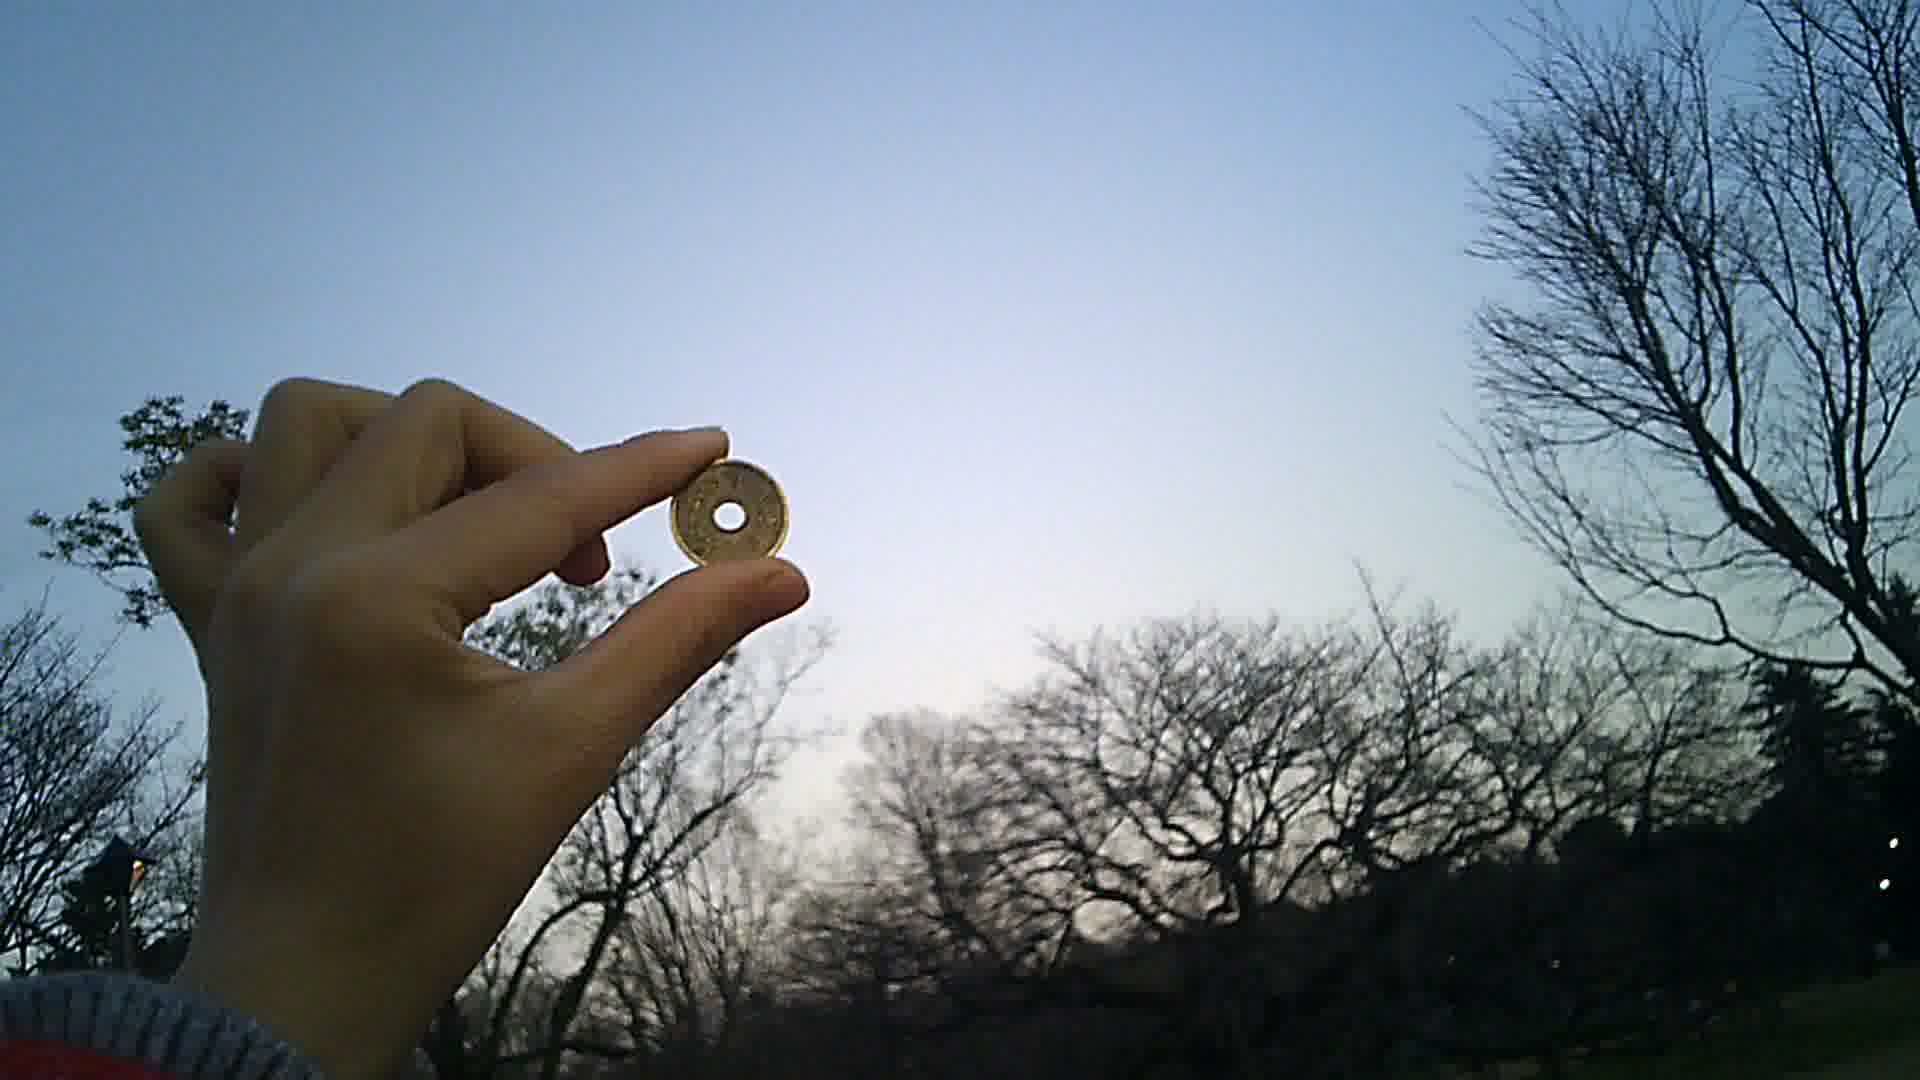5 Yen: (671, 462, 785, 570)
